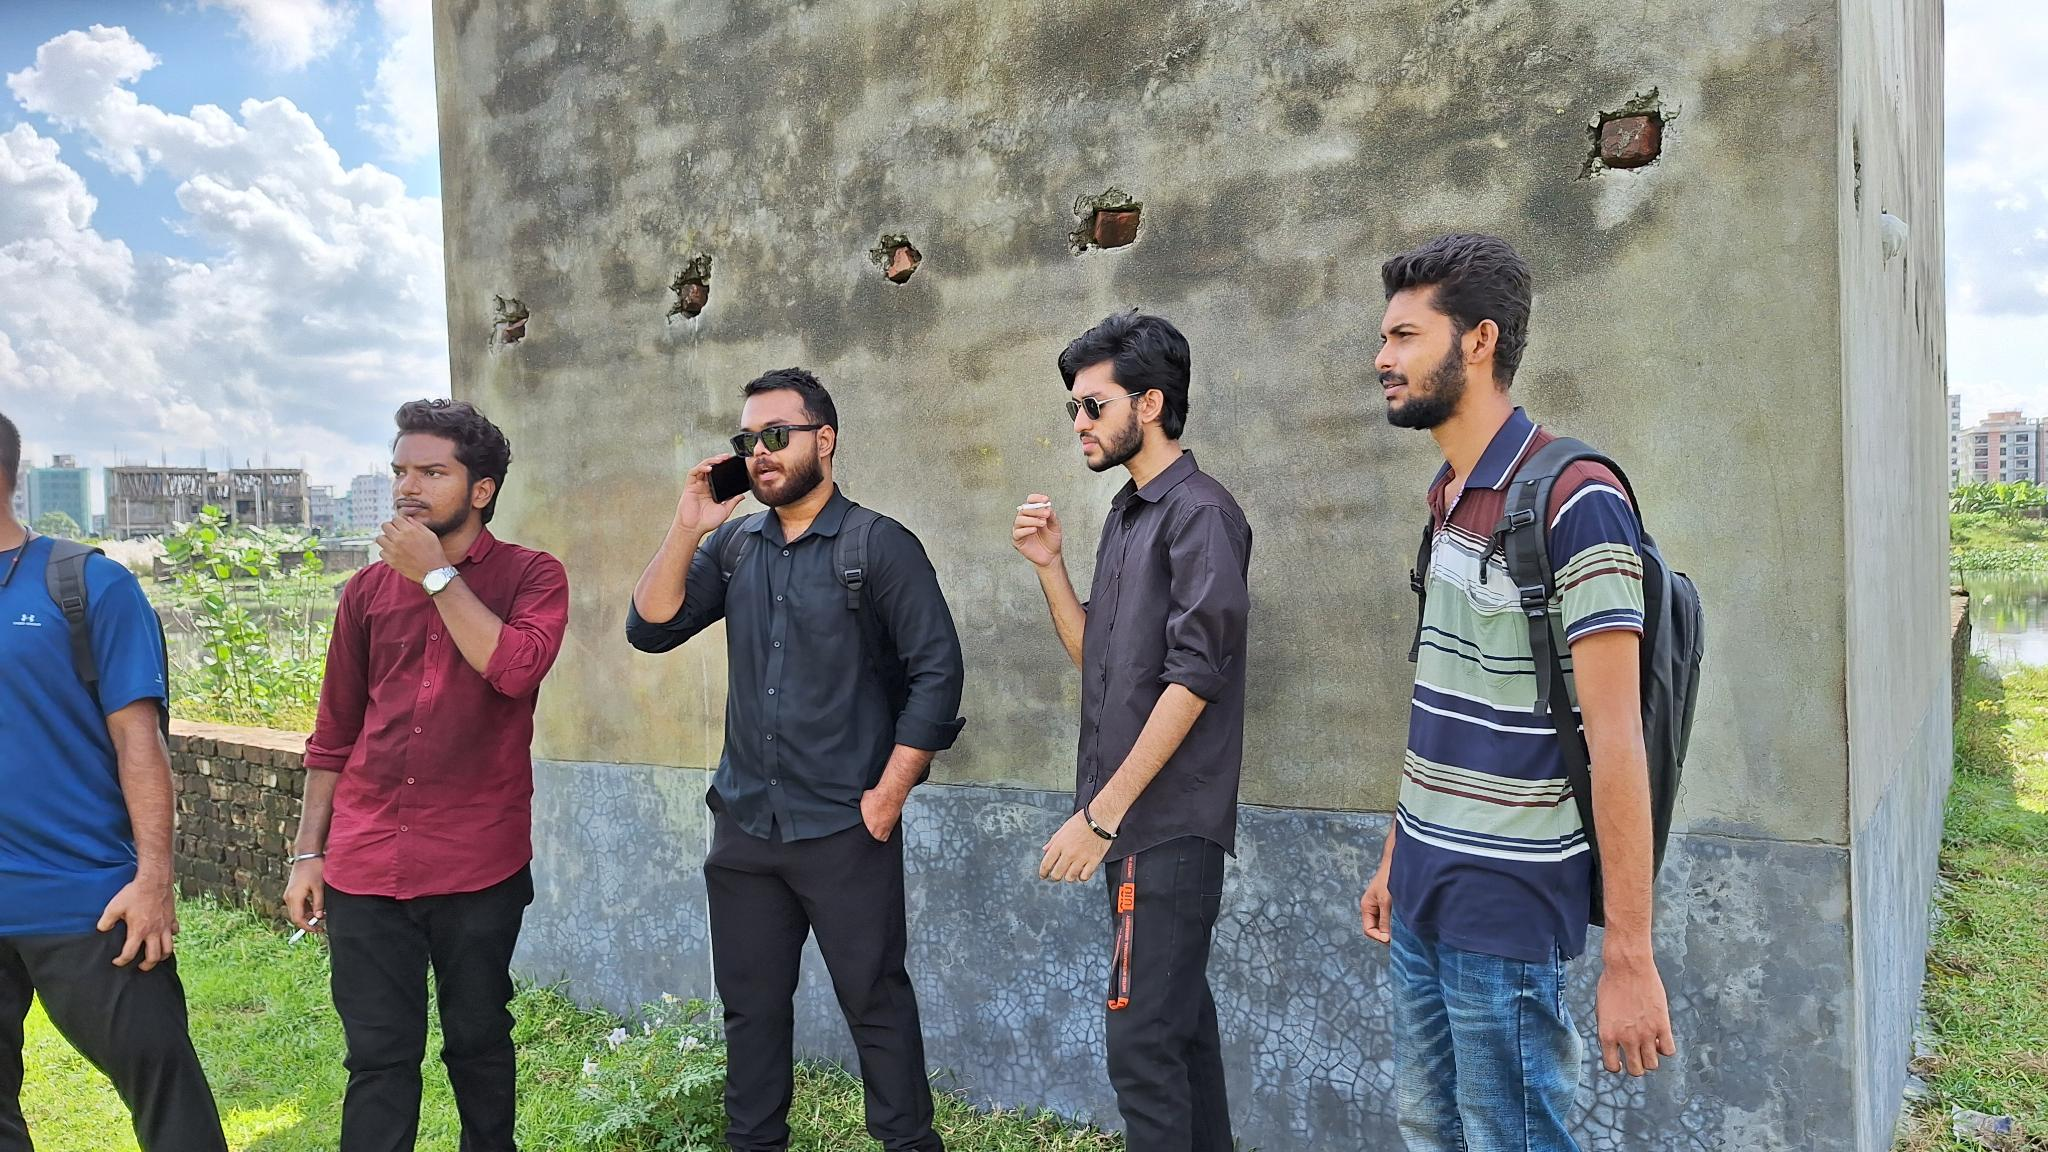cigarette: (286, 914, 321, 948), (1014, 499, 1054, 513)
nonSmoker: (1359, 233, 1705, 1152), (620, 367, 964, 1152), (0, 409, 232, 1152)
smoker: (266, 397, 570, 1152), (1010, 308, 1253, 1152)
